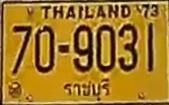0: (34, 25, 54, 72), (96, 24, 115, 71)
1: (147, 22, 153, 71)
3: (118, 24, 138, 70)
7: (12, 25, 31, 73)
9: (73, 24, 92, 71)
RBR: (63, 77, 113, 104)
